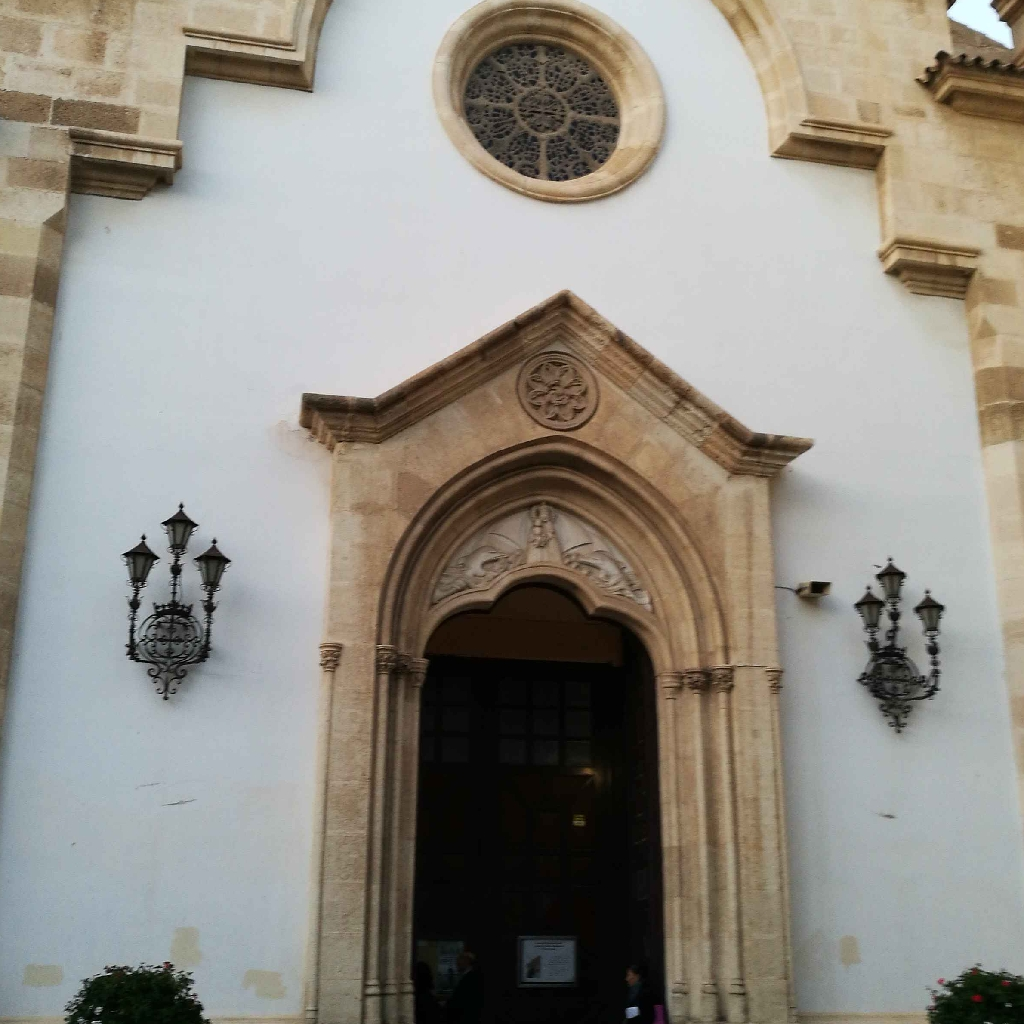arco-apuntado: (369, 433, 710, 656)
arco-trilobulado: (414, 566, 672, 690)
